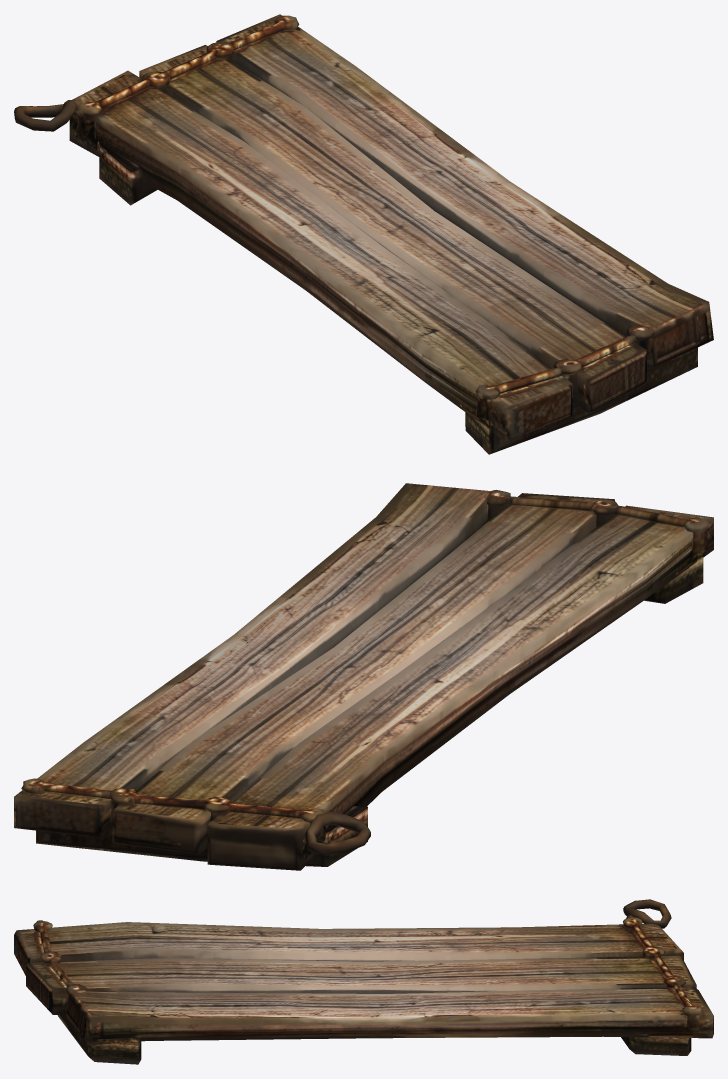
The model's file is act1_kit_v1_plank_crossing.glb.
The picture shows the model from 3 angles, top to bottom: view 1: azimuth 30°, elevation 25°; view 2: azimuth 150°, elevation 25°; view 3: azimuth 270°, elevation 25°; orthographic projection. The views are drawn at different scales.
Visible parts, largest first — view 1: act1_kit_v1_plank_crossing; view 2: act1_kit_v1_plank_crossing; view 3: act1_kit_v1_plank_crossing.
Boxes of the visible parts, x1,y1,x2,y2 form: act1_kit_v1_plank_crossing: [14, 14, 713, 454]; act1_kit_v1_plank_crossing: [14, 483, 713, 870]; act1_kit_v1_plank_crossing: [14, 899, 713, 1064].
Size of the model in its own units: 0.4105 by 0.0815 by 1.
1 material, 1 textured.
